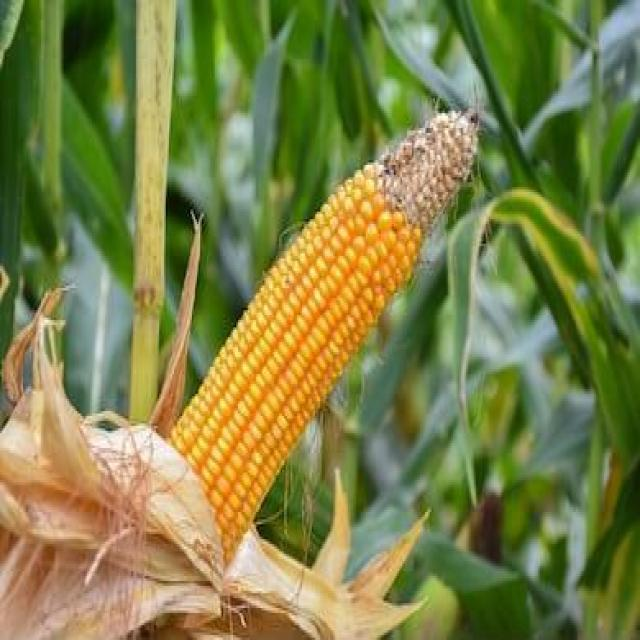corn: (169, 296, 304, 556), (273, 167, 421, 396)
